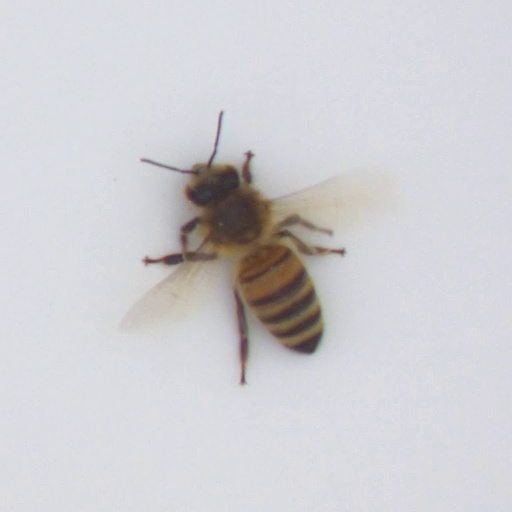Bee: (176, 170, 326, 350)
Thorax: (208, 191, 265, 252)
